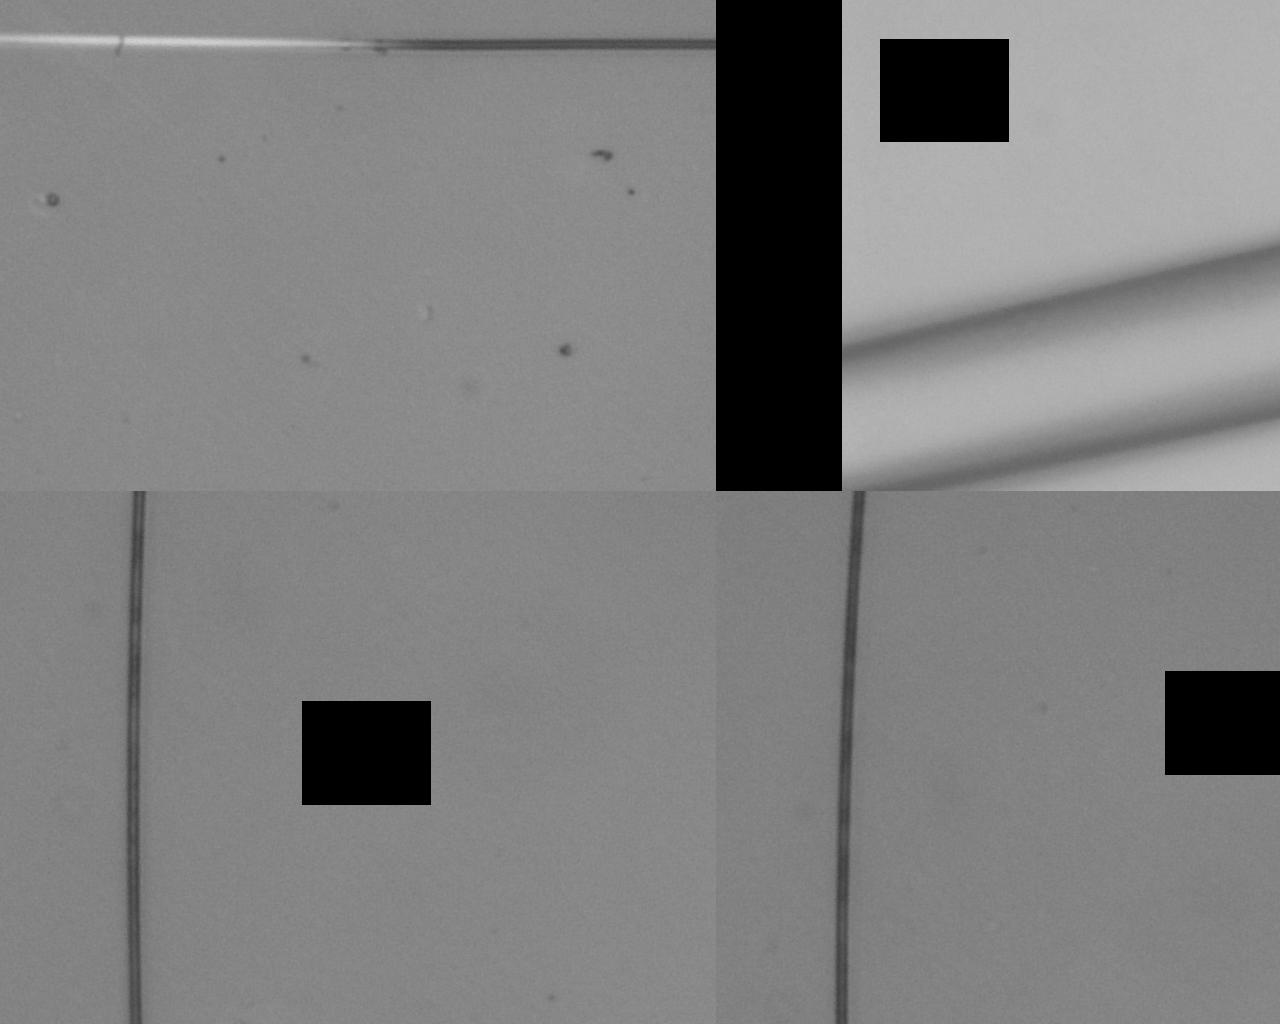fiber: (842, 245, 1280, 491), (834, 491, 866, 1024), (0, 31, 716, 50), (124, 491, 148, 1024)
